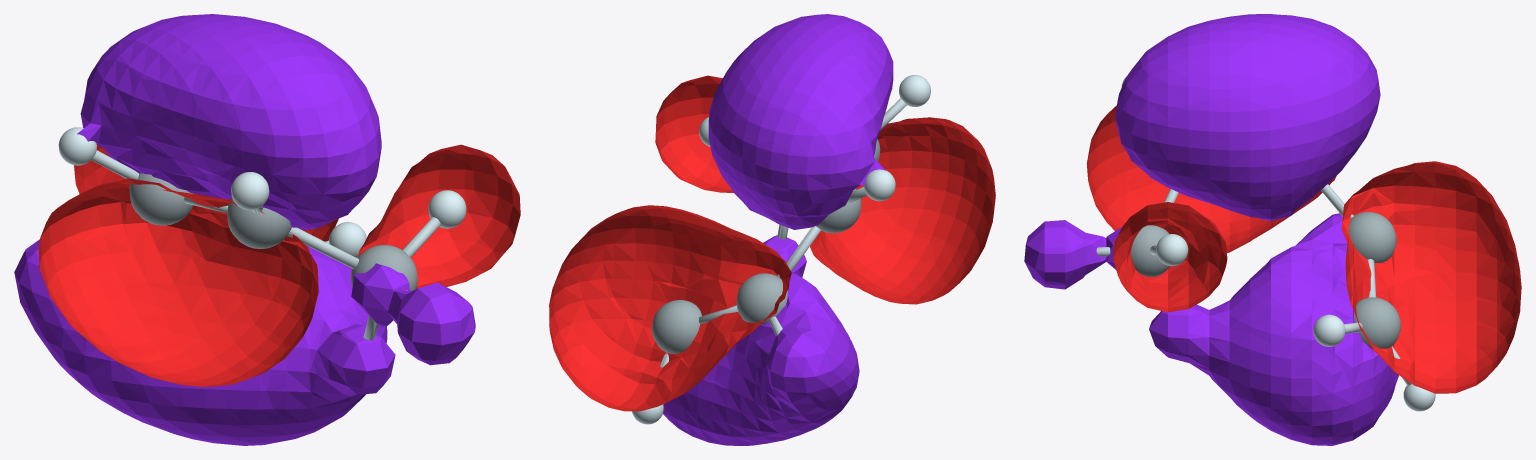
3 renders of one model, left to right at view 1: azimuth 30°, elevation 25°; view 2: azimuth 150°, elevation 25°; view 3: azimuth 270°, elevation 25°, orthographic. The views are drawn at different scales.
Visible parts, largest first — view 1: Renderer Node; view 2: Renderer Node; view 3: Renderer Node.
Boxes of the visible parts, x1,y1,x2,y2 form: Renderer Node: [14, 14, 520, 445]; Renderer Node: [549, 14, 995, 445]; Renderer Node: [1024, 14, 1521, 445].
Size of the model in its own units: 4.93 by 5.24 by 6.16.
